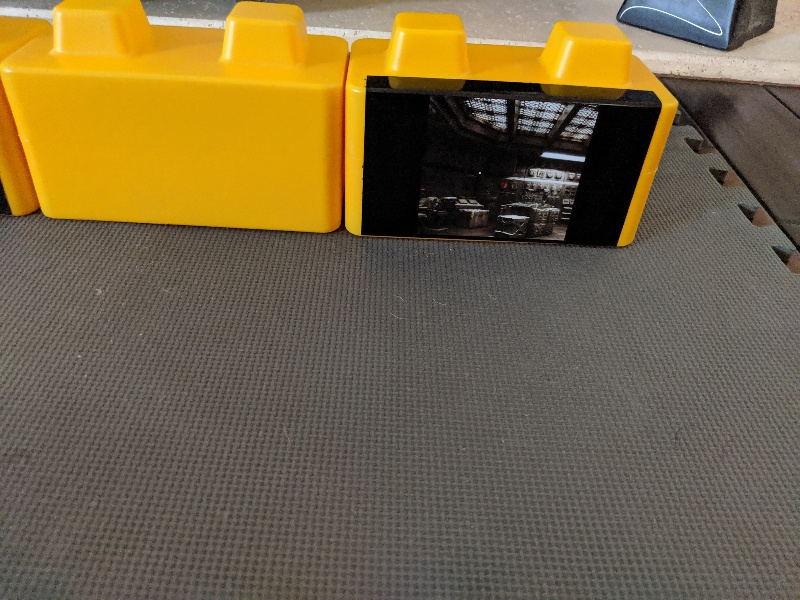Skystone: (356, 66, 662, 257)
